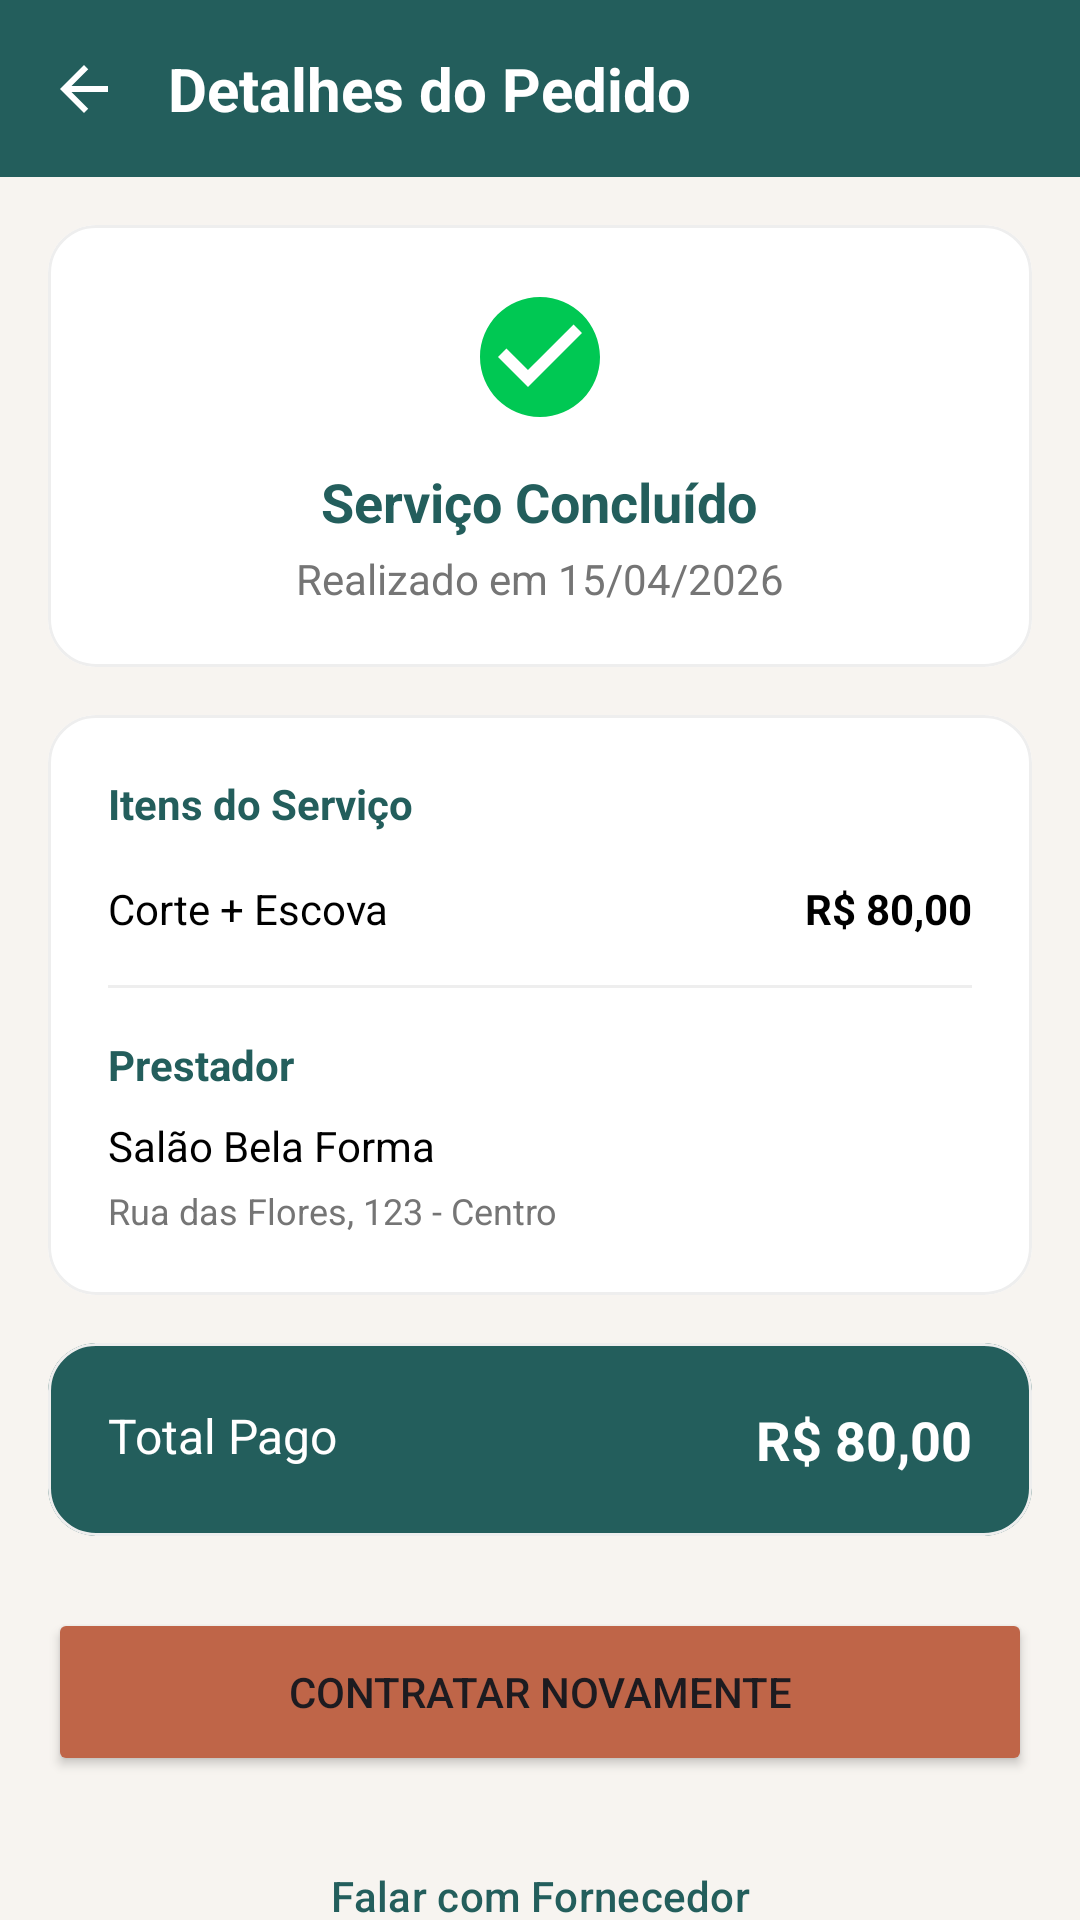

Where to tap for icons on this 1080*1920 app screen, as point (x, y):
check circle: point (540, 357)
Voltar: point (84, 89)
